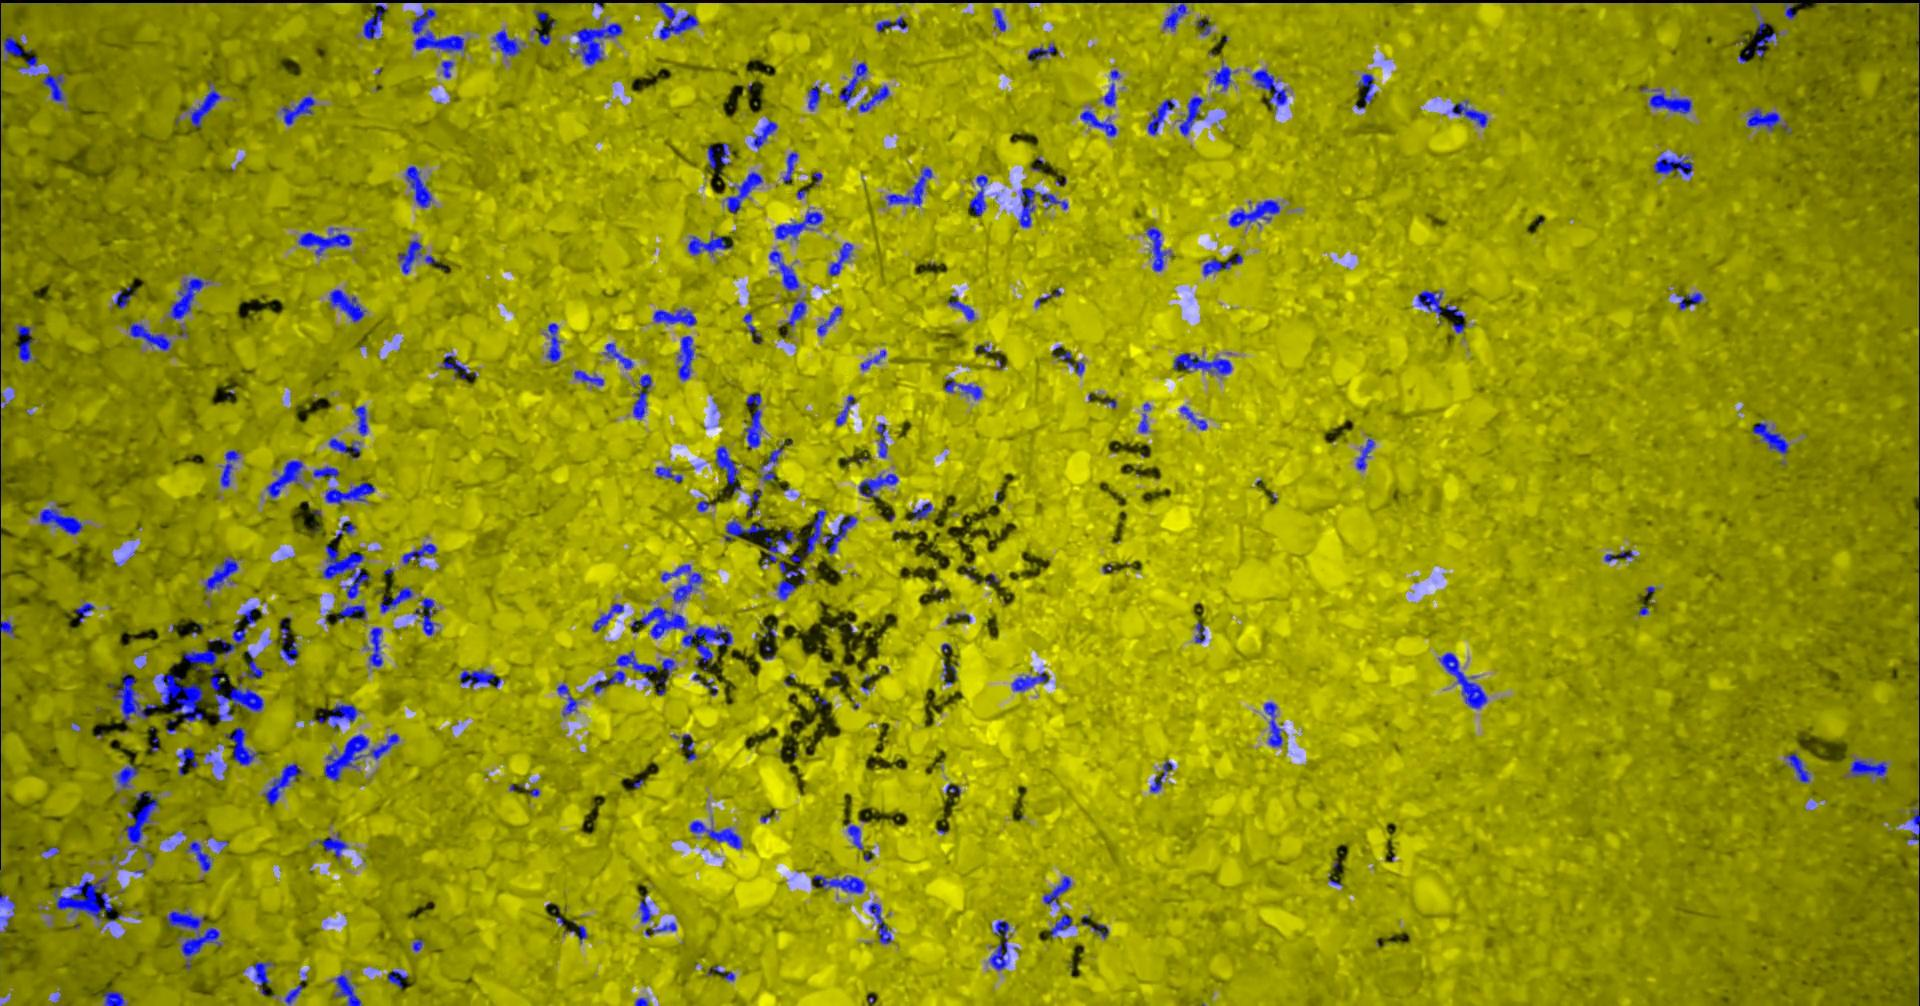ant: (165, 911, 220, 969), (1437, 652, 1486, 708), (321, 544, 370, 598), (803, 509, 856, 553), (681, 625, 731, 669), (411, 8, 463, 51), (323, 733, 368, 781), (112, 672, 156, 721), (574, 22, 622, 65), (1018, 187, 1067, 227), (124, 791, 157, 848), (630, 606, 688, 638), (885, 166, 932, 205), (615, 650, 676, 680), (263, 763, 302, 805), (657, 0, 697, 39), (169, 277, 207, 319), (660, 564, 702, 602), (297, 227, 350, 255), (690, 821, 742, 848), (726, 171, 762, 212), (1251, 69, 1286, 108), (265, 460, 302, 497), (1228, 199, 1279, 226), (775, 211, 822, 239), (1417, 290, 1464, 318), (762, 528, 797, 564), (208, 619, 245, 653), (715, 445, 742, 492), (189, 86, 220, 127), (1173, 352, 1230, 373), (223, 727, 257, 763), (39, 506, 83, 533), (838, 62, 867, 103), (324, 481, 375, 504), (768, 250, 797, 290), (130, 323, 170, 351), (203, 556, 237, 589), (329, 290, 364, 321), (1752, 422, 1788, 453), (1145, 227, 1171, 271), (405, 165, 430, 207), (775, 561, 803, 600), (317, 704, 357, 730), (988, 920, 1008, 970), (1147, 98, 1175, 135), (1650, 89, 1691, 113), (744, 392, 762, 448), (1051, 345, 1084, 375), (687, 232, 731, 254), (1451, 100, 1487, 127), (1079, 111, 1116, 136), (869, 902, 891, 942), (281, 97, 314, 124), (590, 603, 623, 631), (362, 0, 386, 38), (1178, 97, 1203, 135), (858, 473, 897, 497), (813, 875, 863, 893), (1203, 253, 1242, 276), (439, 354, 476, 379), (378, 586, 411, 612), (413, 597, 436, 635), (723, 520, 764, 540), (632, 373, 651, 418), (943, 377, 982, 399), (1263, 702, 1283, 746), (1043, 875, 1070, 904), (334, 974, 361, 1005), (491, 29, 523, 55), (397, 240, 422, 273), (828, 243, 852, 276), (1754, 22, 1777, 56), (603, 342, 632, 368), (368, 733, 397, 760), (317, 832, 347, 859), (1653, 156, 1691, 177), (653, 307, 696, 325), (592, 669, 623, 694), (185, 840, 210, 871), (1746, 107, 1779, 130), (1149, 760, 1172, 793), (251, 962, 274, 995), (969, 174, 987, 216), (458, 669, 500, 687), (858, 85, 888, 111), (817, 306, 842, 335), (401, 542, 436, 564), (1785, 752, 1810, 782), (677, 335, 693, 380), (17, 323, 36, 361), (1162, 3, 1187, 30), (750, 119, 776, 147), (1011, 671, 1048, 690), (1849, 758, 1887, 776), (556, 683, 577, 716), (42, 72, 65, 102), (1102, 69, 1120, 105), (220, 450, 237, 486), (949, 295, 974, 320), (328, 438, 359, 459), (177, 746, 198, 775), (1180, 406, 1206, 429), (742, 311, 761, 343), (836, 395, 855, 426), (367, 627, 382, 666), (786, 297, 805, 326), (116, 763, 138, 788), (707, 142, 729, 168), (1356, 438, 1374, 469), (546, 323, 560, 361), (1357, 72, 1375, 102), (860, 349, 885, 370), (245, 650, 263, 678), (759, 447, 783, 467), (782, 152, 797, 184), (1213, 64, 1230, 90), (1049, 915, 1070, 936), (876, 17, 907, 32), (114, 285, 135, 307), (573, 370, 603, 385), (1027, 43, 1054, 60), (1675, 292, 1702, 309), (846, 822, 862, 848), (745, 488, 761, 516), (706, 965, 734, 981), (334, 520, 356, 539), (353, 405, 367, 434), (655, 466, 682, 481), (644, 922, 676, 935), (876, 423, 888, 457), (337, 605, 364, 619), (1138, 401, 1150, 432), (75, 602, 94, 622), (284, 984, 303, 1005), (312, 466, 339, 480), (3, 36, 22, 55), (279, 641, 298, 661), (102, 989, 124, 1005), (910, 502, 931, 518), (387, 970, 408, 987), (639, 897, 651, 922), (1909, 809, 1919, 840), (0, 890, 15, 911), (943, 659, 956, 683), (570, 925, 587, 942), (808, 85, 819, 111), (18, 55, 37, 69), (681, 741, 695, 760), (1090, 923, 1109, 937), (993, 8, 1004, 30), (1783, 3, 1798, 19), (1195, 19, 1210, 36), (0, 620, 15, 636), (243, 607, 257, 625), (441, 60, 453, 77), (1194, 621, 1204, 641), (279, 620, 288, 643), (696, 500, 714, 511), (537, 30, 550, 44)
